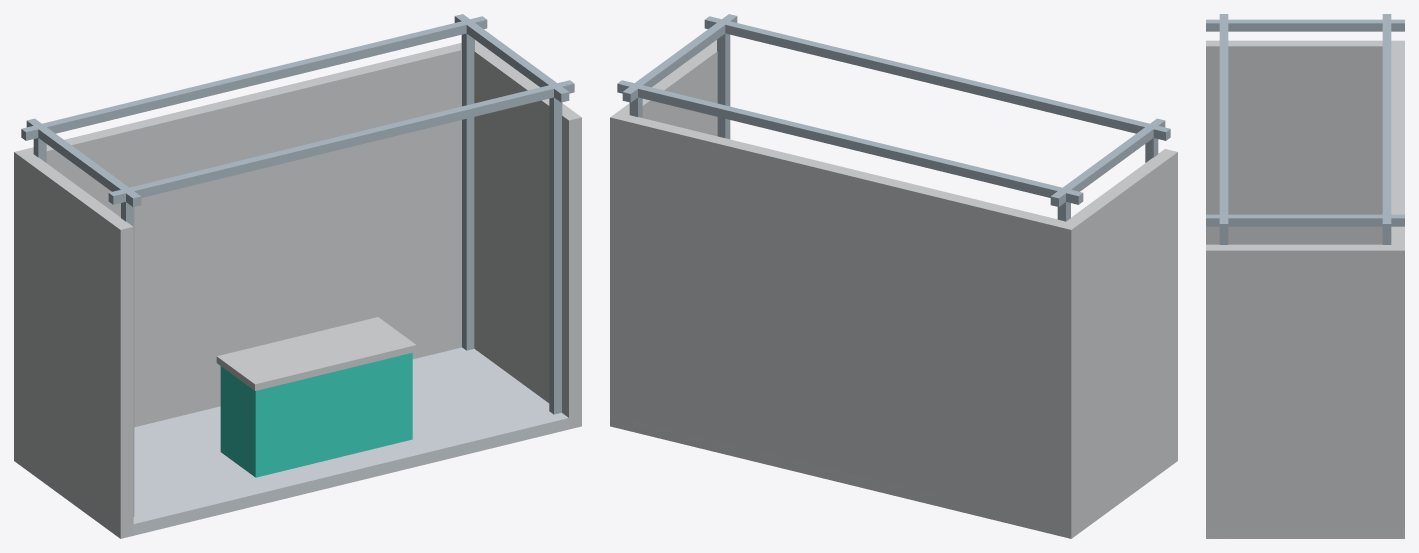
The picture shows the model from 3 angles, left to right: view 1: azimuth 30°, elevation 25°; view 2: azimuth 150°, elevation 25°; view 3: azimuth 270°, elevation 25°; orthographic projection. The views are drawn at different scales.
Visible parts, largest first — view 1: Exhibition Booth Concept; view 2: Exhibition Booth Concept; view 3: Exhibition Booth Concept.
Boxes of the visible parts, x1,y1,x2,y2 form: Exhibition Booth Concept: (14, 14, 581, 538); Exhibition Booth Concept: (610, 14, 1177, 538); Exhibition Booth Concept: (1206, 14, 1404, 538).
Bounding box in the file's own units: 5 × 3.49 × 2.
